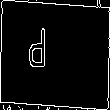P_S: (45, 29, 65, 81)
